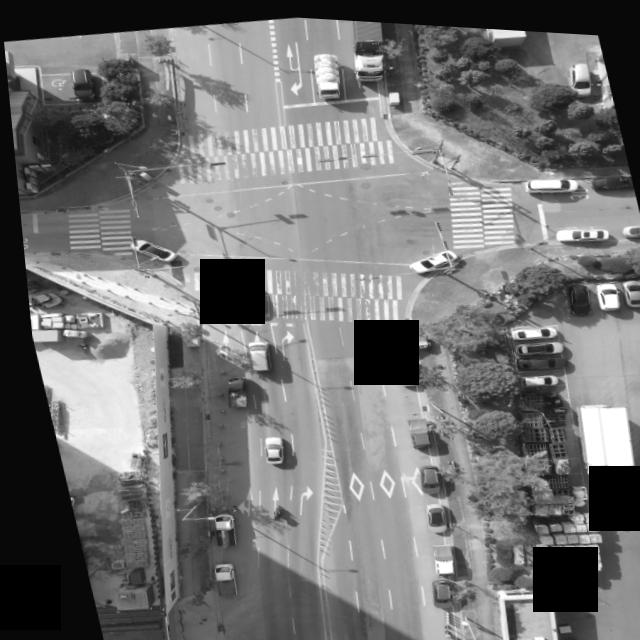car: (231, 335, 266, 373)
large_truck: (338, 16, 393, 83)
medium_truck: (559, 390, 638, 484)
small_truck: (305, 46, 347, 97), (195, 510, 233, 548), (212, 371, 246, 411), (394, 410, 427, 449), (199, 560, 230, 597), (416, 541, 449, 575)
